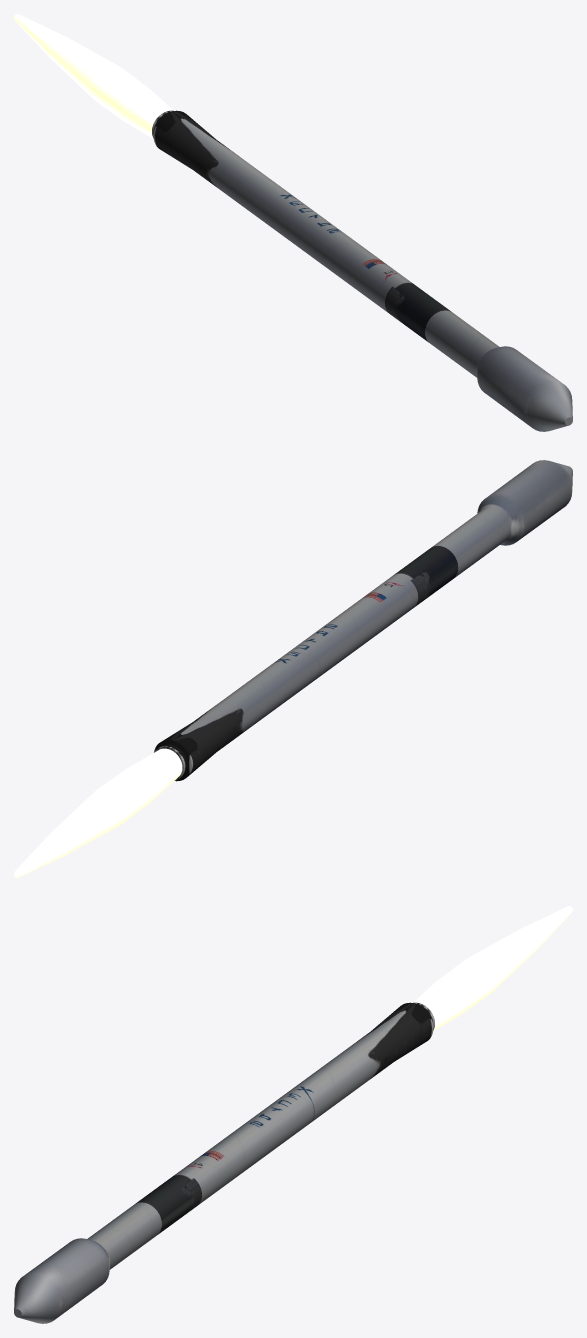
Rendered from thrusterRocket.glb.
3 renders of one model, top to bottom at view 1: azimuth 30°, elevation 25°; view 2: azimuth 150°, elevation 25°; view 3: azimuth 330°, elevation 25°, orthographic.
Visible parts, largest first — view 1: Rocket, Thruster; view 2: Rocket, Thruster; view 3: Rocket, Thruster.
Part boxes in pixels (box(x1,y1,x2,y2)): Rocket: box(152, 110, 572, 431); Thruster: box(14, 14, 173, 138); Rocket: box(154, 460, 572, 781); Thruster: box(14, 748, 182, 877); Rocket: box(14, 1002, 434, 1323); Thruster: box(413, 906, 572, 1030).
Bounding box in the file's own units: 2.81 × 2.81 × 57.71.
2 materials, 1 textured.
